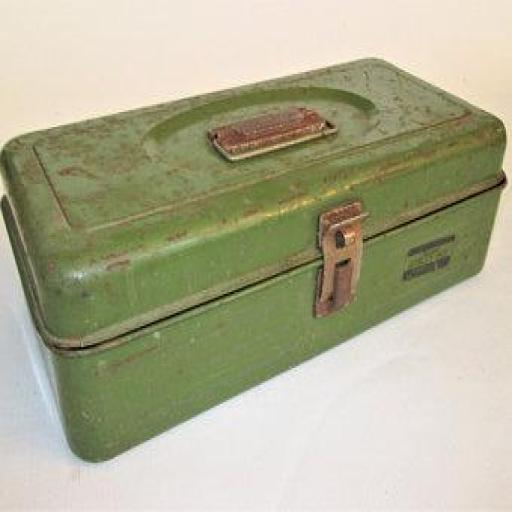corrosion: (205, 98, 336, 163)
